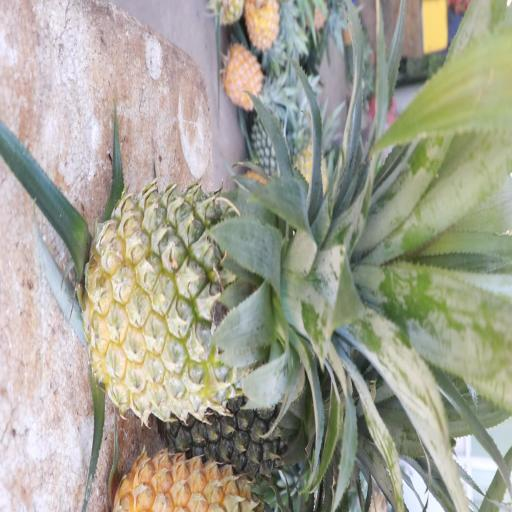------------------------------: (87, 186, 332, 418)
Pineapple - v8 v1: (222, 36, 268, 104), (244, 0, 287, 71)
